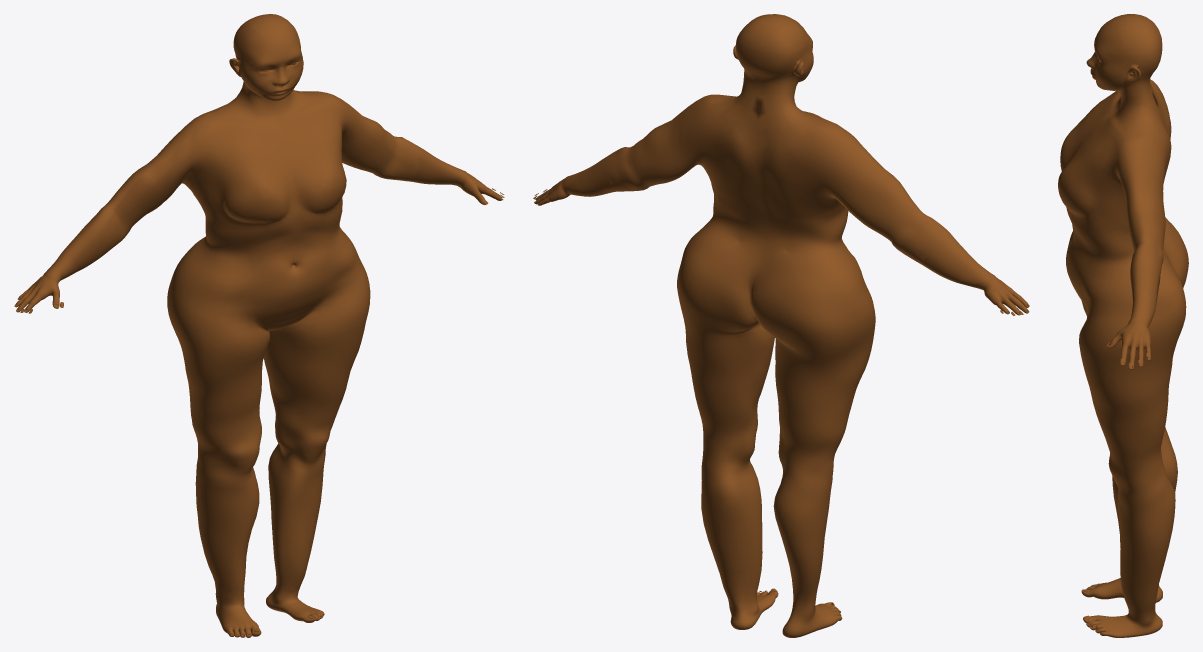
File: female_XXL_5.glb
The picture shows the model from 3 angles, left to right: view 1: azimuth 30°, elevation 25°; view 2: azimuth 150°, elevation 25°; view 3: azimuth 270°, elevation 25°; orthographic projection.
Visible parts, largest first — view 1: Body; view 2: Body; view 3: Body.
Boxes of the visible parts, x1=… form: Body: x1=14, y1=14, x2=503, y2=637; Body: x1=534, y1=14, x2=1029, y2=637; Body: x1=1058, y1=14, x2=1188, y2=637.
Bounding box in the file's own units: 1.59 × 1.88 × 0.3691.
